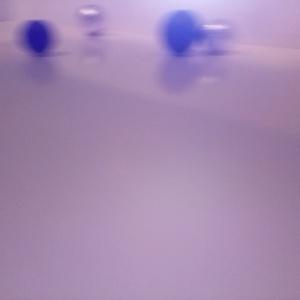alive_ball: (199, 21, 231, 54), (74, 4, 104, 35)
dead_ball: (159, 10, 199, 53), (19, 21, 54, 53)
